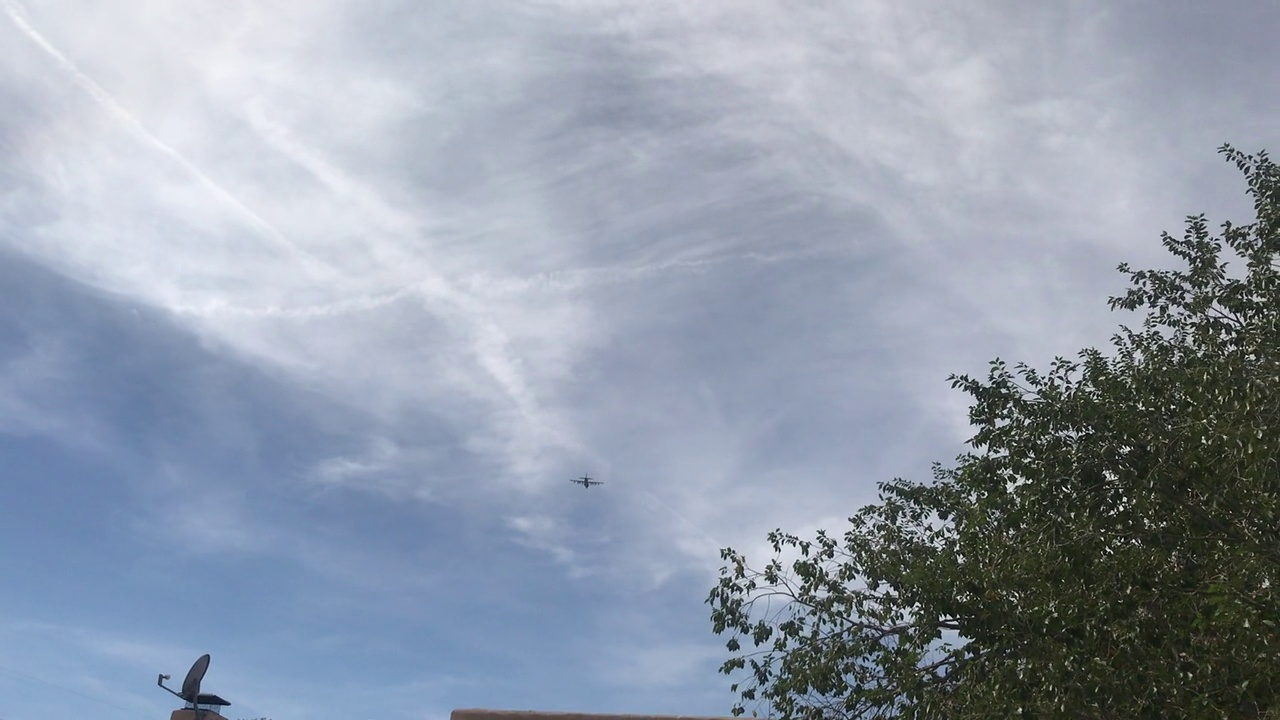plane: (570, 473, 604, 489)
